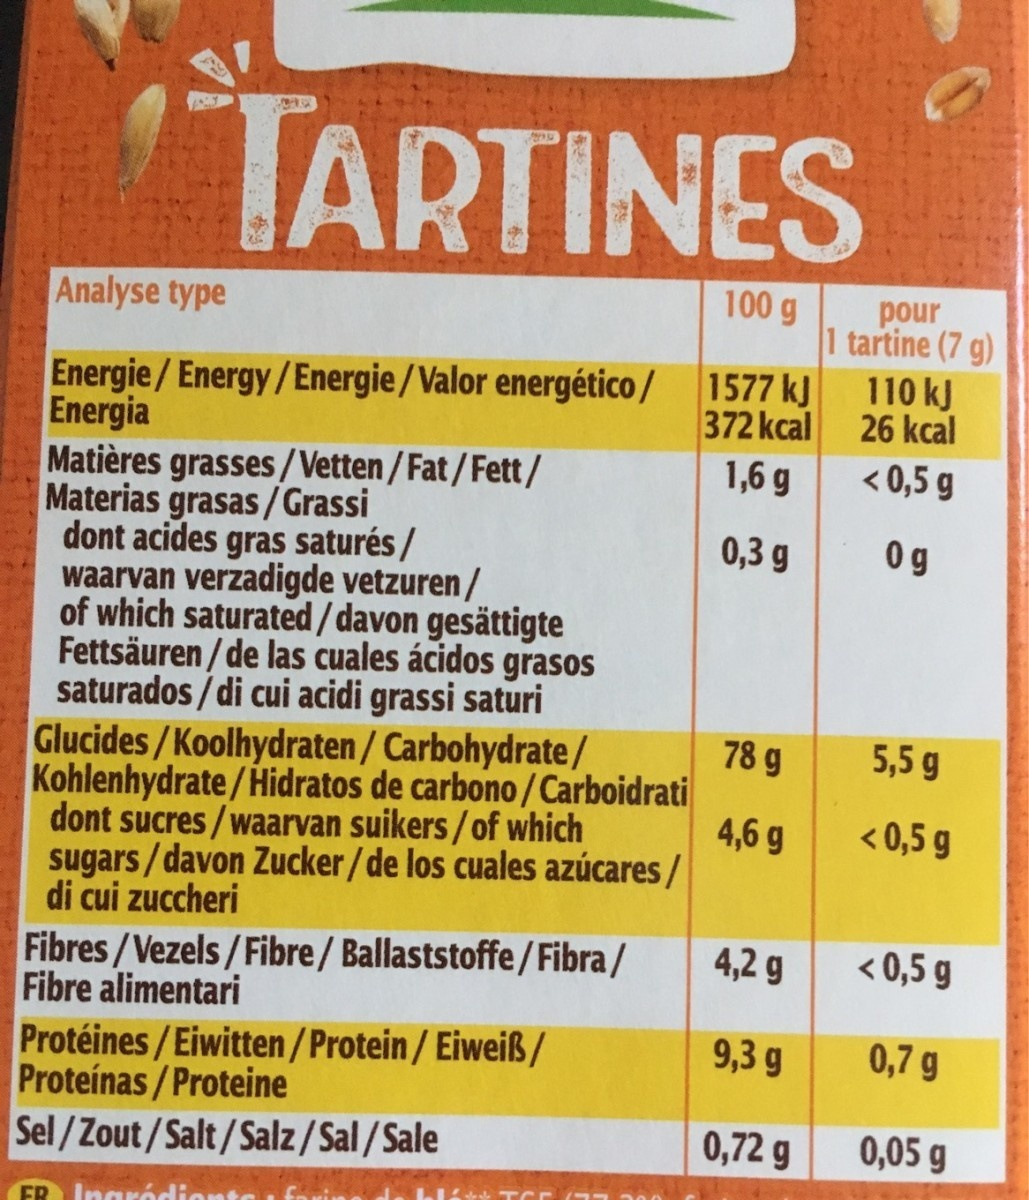column: (17, 277, 688, 1158), (830, 299, 991, 1179), (706, 289, 811, 1173)
table: (8, 250, 1022, 1189)
